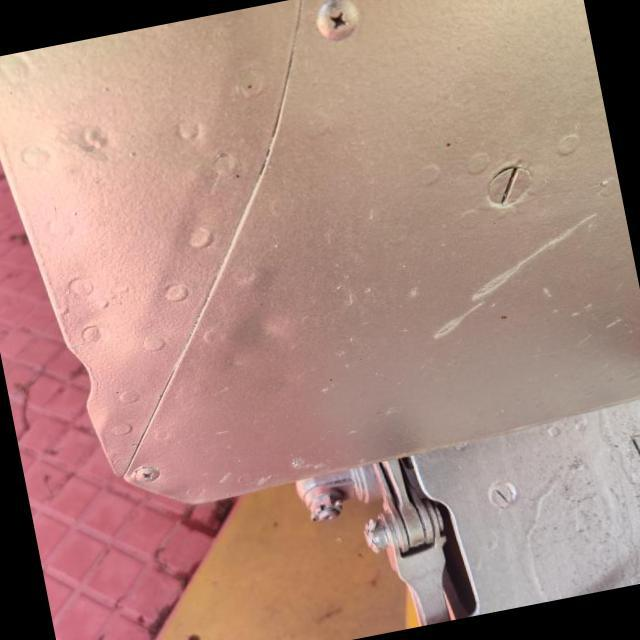Dent: (198, 277, 313, 390)
